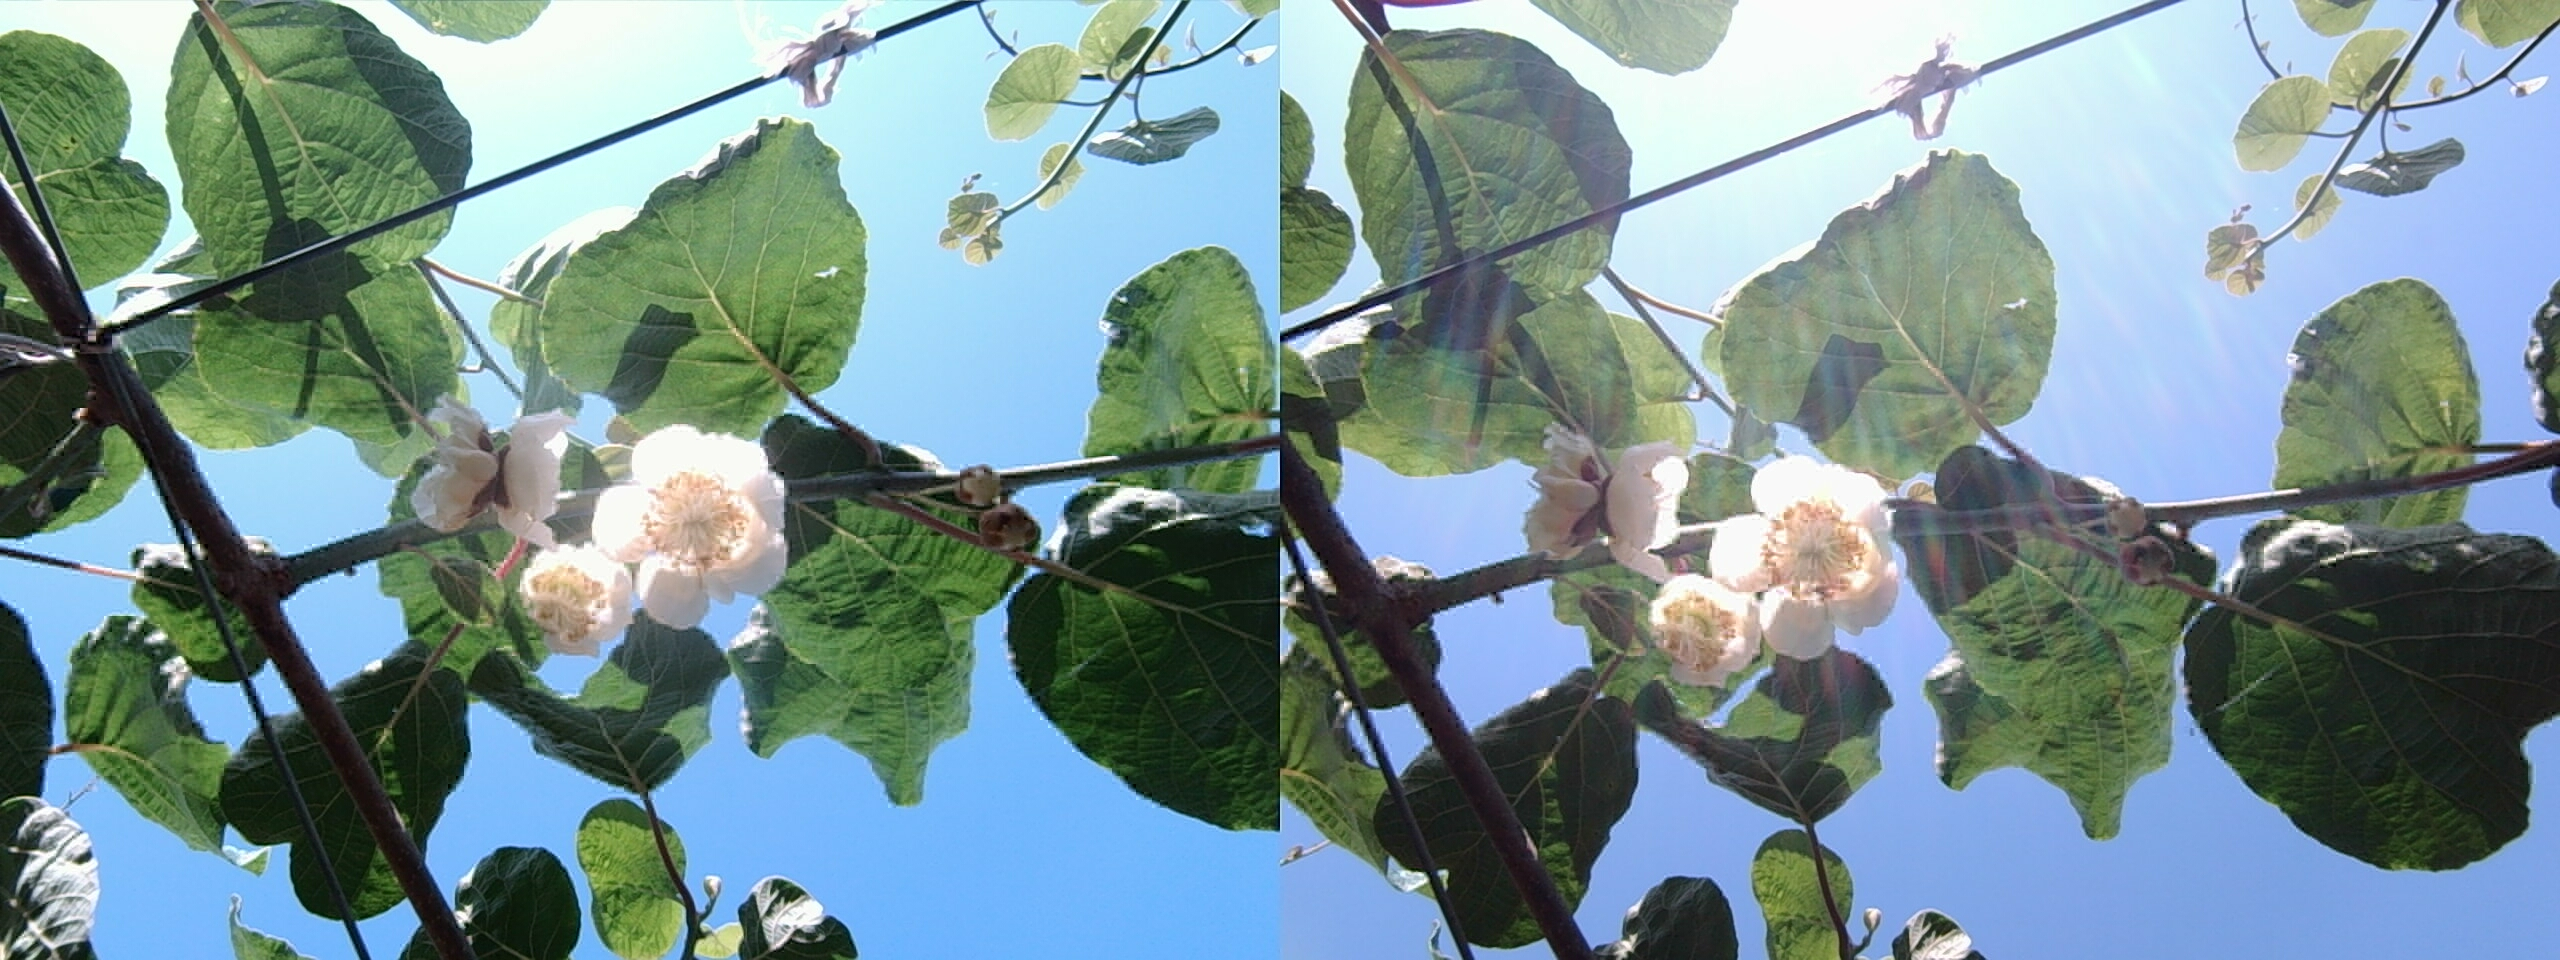flower: (1708, 459, 1913, 663), (594, 429, 815, 614), (513, 540, 638, 651), (1642, 575, 1771, 682)
